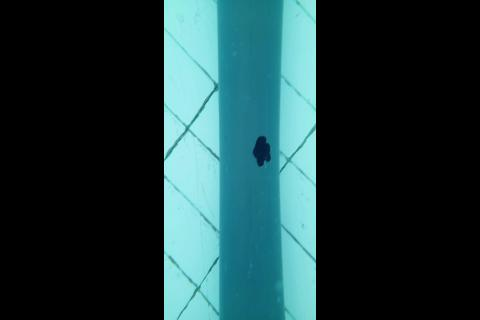kebocoran: (251, 134, 272, 166)
